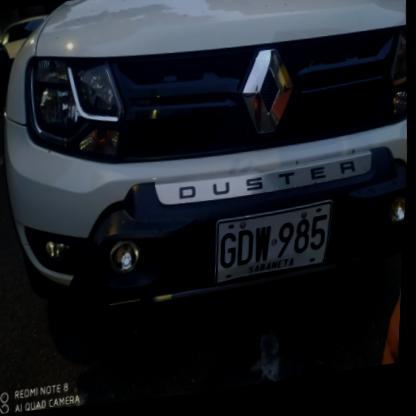placa: (210, 203, 339, 292)
